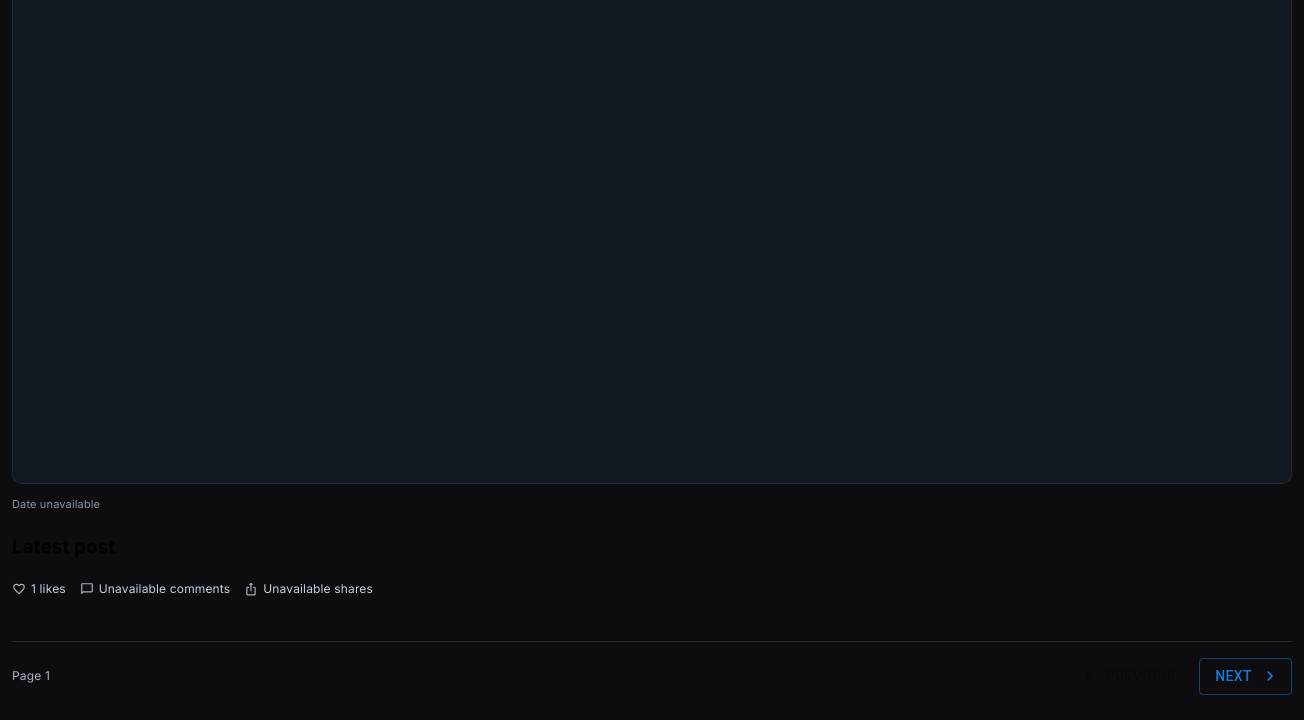
Test: expired cursors offer recovery to the latest posts
Later steps or results of the test are not shown.
(page scrolled)
Click the button "Next". click: [1246, 676]
box: [1199,658,1292,695]
(page scrolled)
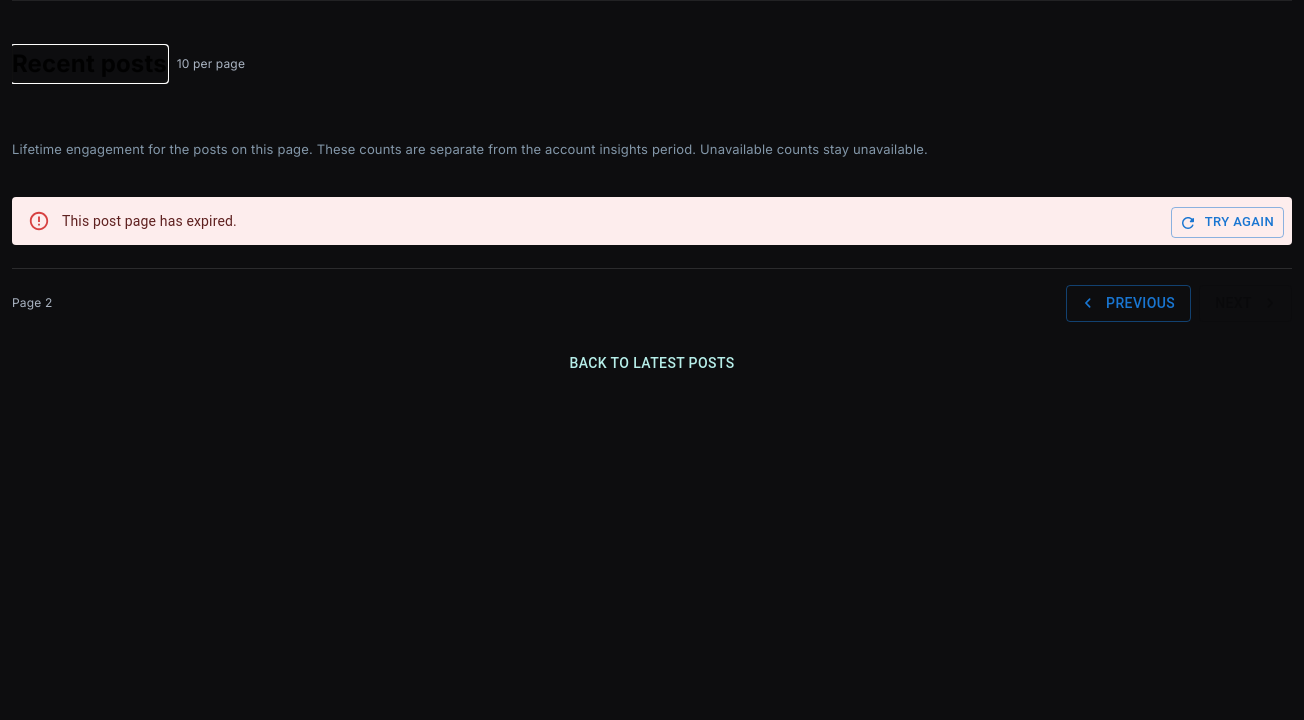
Check: the text "This post page has expired." is shown, box [62,213,237,229]
